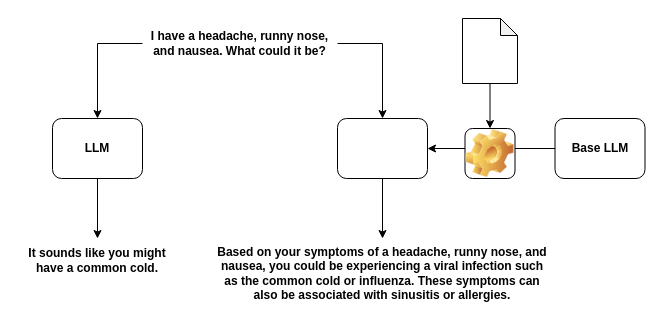
Some shapes in this 662 by 326 pixel diagram are drawn without their labels. The shapes that lost their labels are listed below. From the top down, each one's box as (x1, y1, x2, y2) in pixels, then its label:
(462, 18, 518, 84): Medical Data
(336, 118, 428, 178): Fine-tuned LLM
